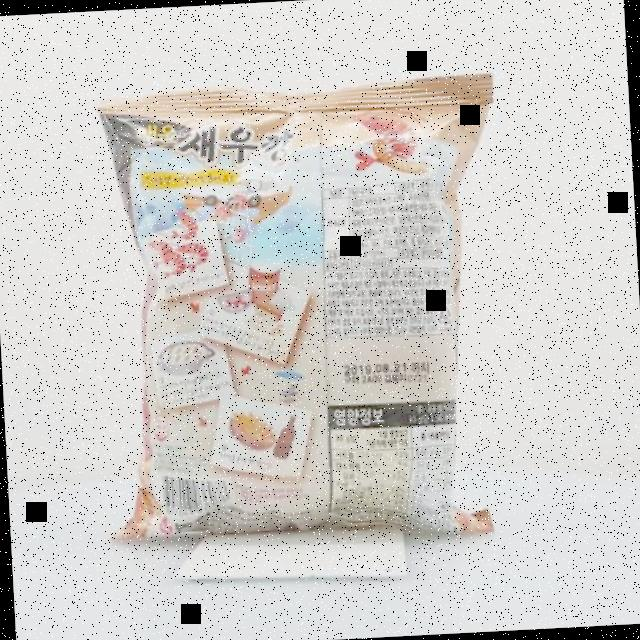snack_bag: (77, 61, 528, 567)
